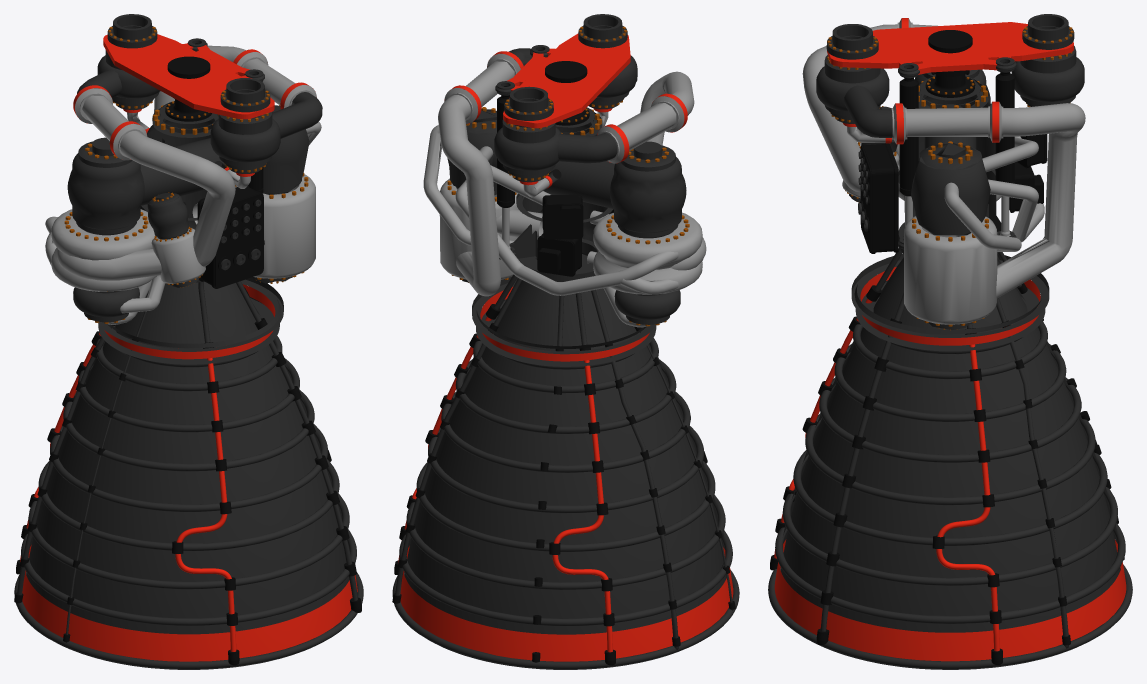
3 renders of one model, left to right at view 1: azimuth 30°, elevation 25°; view 2: azimuth 150°, elevation 25°; view 3: azimuth 270°, elevation 25°, orthographic. The views are drawn at different scales.
Visible parts, largest first — view 1: Object_27, Object_16, Object_21, Object_26, Object_23, Object_18, Object_6, Object_25, Object_24, Object_17, Object_22, Object_20 (+8 smaller); view 2: Object_27, Object_16, Object_17, Object_21, Object_26, Object_23, Object_24, Object_6, Object_20, Object_22, Object_18, Object_25 (+9 smaller); view 3: Object_27, Object_16, Object_17, Object_23, Object_21, Object_25, Object_6, Object_18, Object_20, Object_15, Object_24, Object_3 (+9 smaller).
Boxes of the visible parts, left/top/right/bottom form: Object_27: left=14, top=102, right=363, bottom=669; Object_16: left=20, top=34, right=357, bottom=661; Object_21: left=51, top=49, right=316, bottom=291; Object_26: left=67, top=137, right=199, bottom=322; Object_23: left=97, top=14, right=357, bottom=600; Object_18: left=57, top=131, right=235, bottom=280; Object_6: left=140, top=186, right=263, bottom=288; Object_25: left=187, top=38, right=309, bottom=283; Object_24: left=16, top=202, right=264, bottom=642; Object_17: left=45, top=45, right=321, bottom=324; Object_22: left=77, top=70, right=322, bottom=138; Object_20: left=82, top=58, right=295, bottom=140; Object_27: left=392, top=112, right=739, bottom=669; Object_16: left=400, top=33, right=733, bottom=661; Object_17: left=423, top=95, right=678, bottom=327; Object_21: left=439, top=51, right=702, bottom=294; Object_26: left=610, top=141, right=686, bottom=324; Object_23: left=494, top=14, right=637, bottom=182; Object_24: left=394, top=209, right=732, bottom=649; Object_6: left=537, top=194, right=613, bottom=276; Object_20: left=466, top=61, right=676, bottom=249; Object_22: left=509, top=48, right=617, bottom=163; Object_18: left=640, top=71, right=706, bottom=270; Object_25: left=447, top=45, right=549, bottom=283; Object_27: left=768, top=79, right=1132, bottom=669; Object_16: left=774, top=18, right=1126, bottom=661; Object_17: left=944, top=103, right=1085, bottom=298; Object_23: left=816, top=14, right=1084, bottom=631; Object_21: left=842, top=18, right=1003, bottom=324; Object_25: left=898, top=57, right=1016, bottom=329; Object_6: left=860, top=134, right=1047, bottom=253; Object_18: left=802, top=24, right=899, bottom=191; Object_20: left=906, top=24, right=1010, bottom=236; Object_15: left=774, top=298, right=999, bottom=651; Object_24: left=875, top=204, right=1068, bottom=648; Object_3: left=925, top=30, right=975, bottom=97.
Size of the model in its own units: 2.47 by 4.25 by 2.47.
